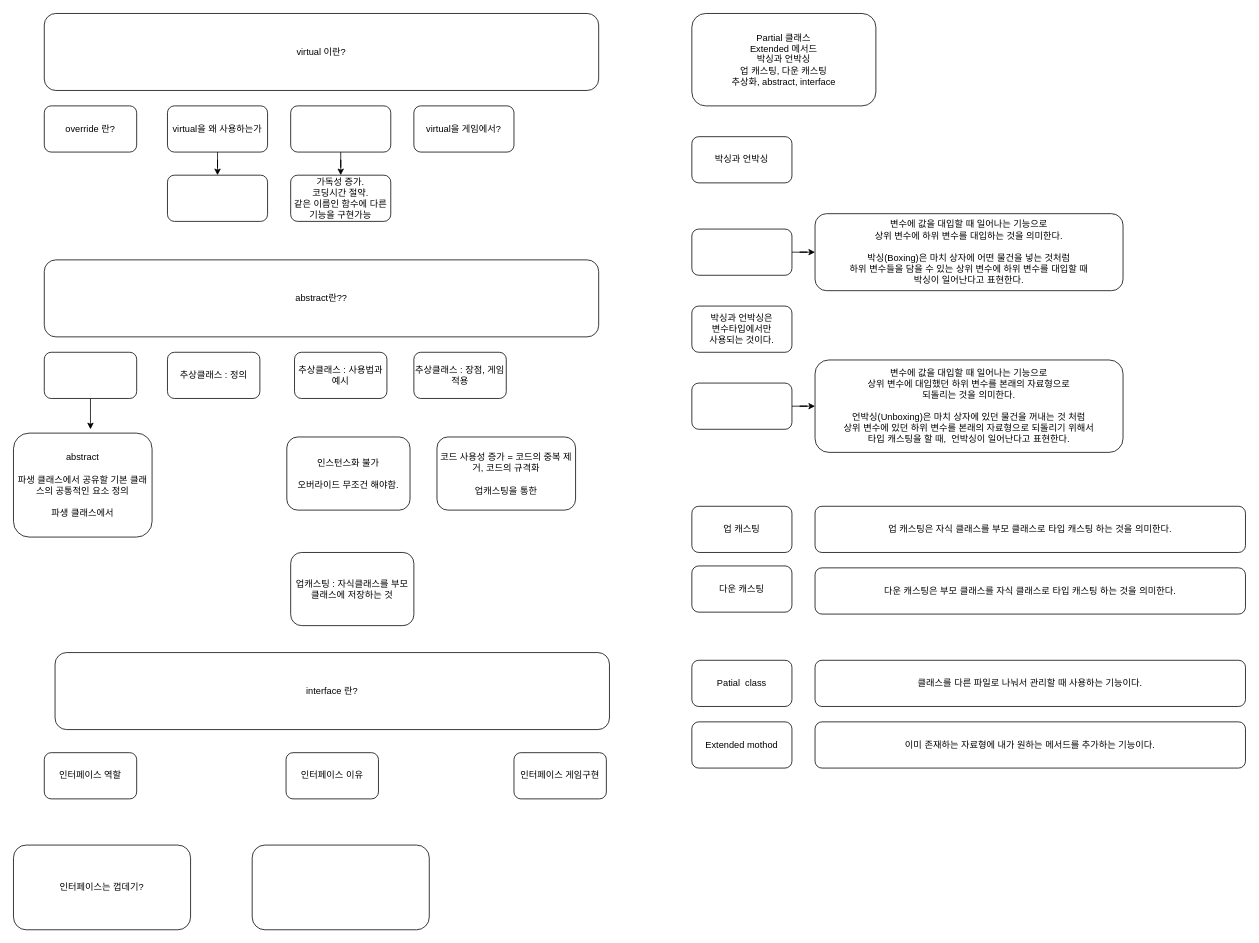
Some shapes in this 1259 by 943 pixel diagram are drawn without their labels. The shapes that lost their labels are listed below. From the top down, each one's centre as x and y in pixels, then its label:
At [340,128]: "virtual의 장점".
At [217,197]: "객체지향 프로그래밍의 특성, 상속과 다형성에 연관이 있습니다.".
At [741,251]: "박싱".
At [90,375]: "상속의 종류 interface. virtual. abstract".
At [741,405]: "언박싱".
